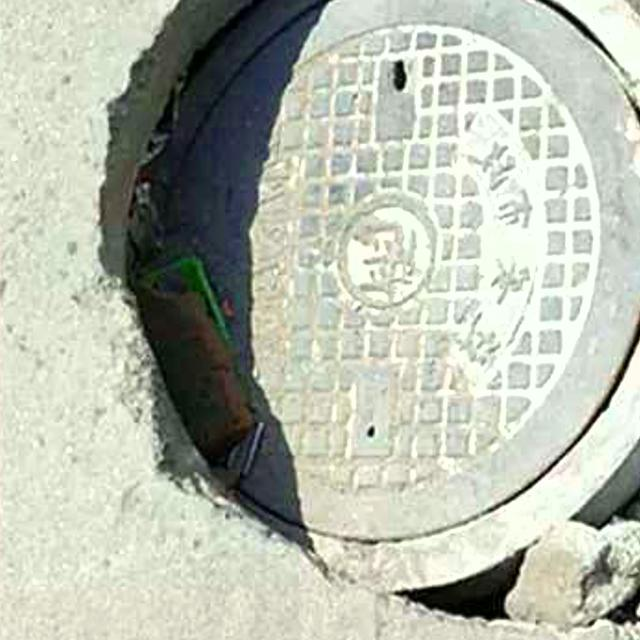circle: (102, 0, 640, 613)
